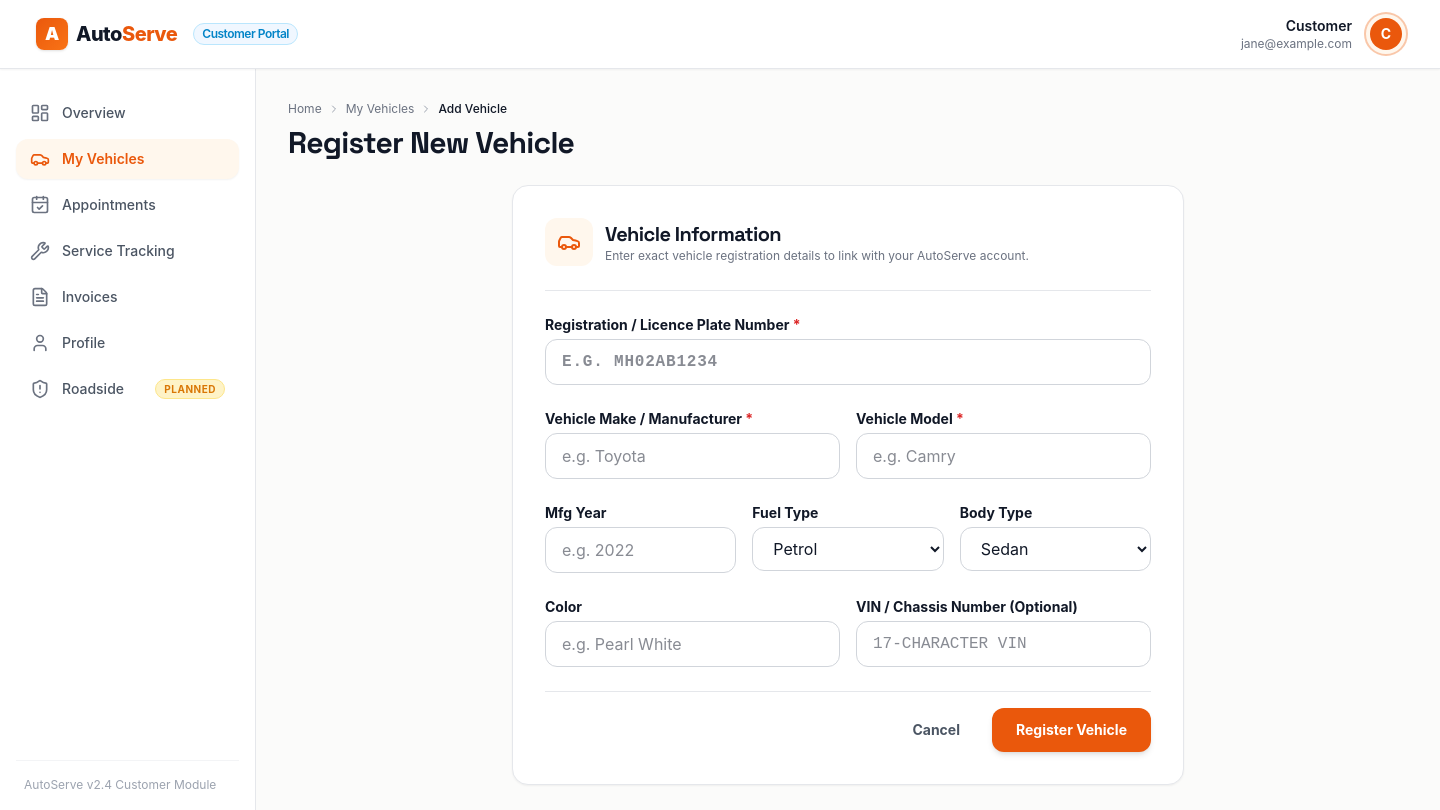
Test: Vehicle Management Tests › 9. validates required fields on Add Vehicle form submit
The image size is (1440, 810).
Click the button "Register Vehicle": (1072, 730) [992, 708, 1151, 752]
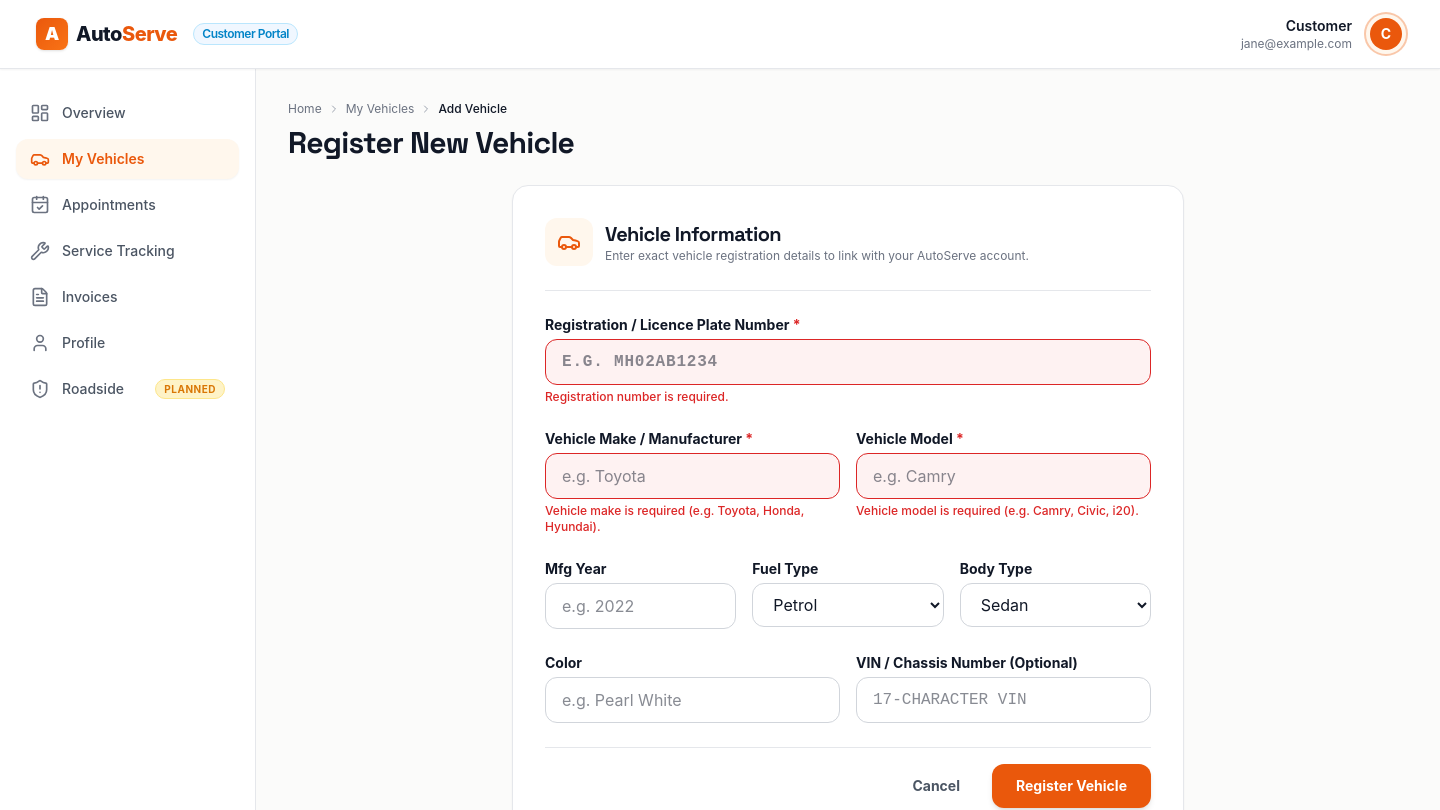
expect the text "Registration number is required." is shown: met, box [545, 389, 729, 404]
expect the text "Vehicle make is required (e.g. Toyota, Honda, Hyundai)." is shown: met, box [545, 503, 840, 535]
expect the text "Vehicle model is required (e.g. Camry, Civic, i20)." is shown: met, box [856, 503, 1151, 519]
